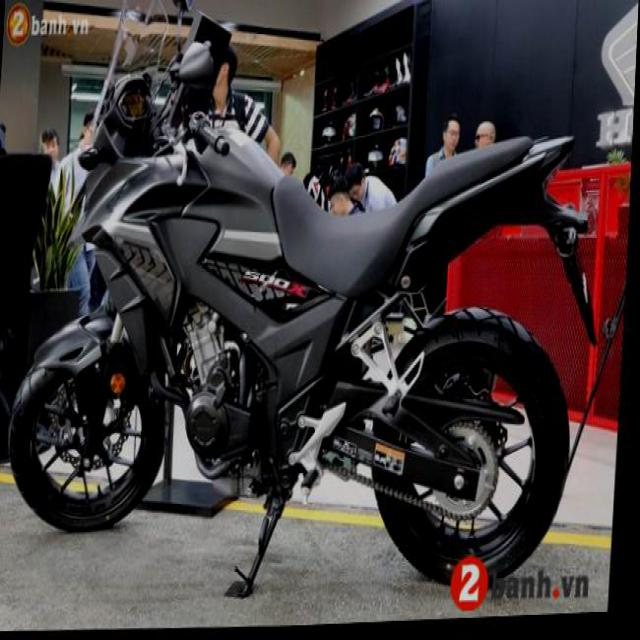CB500X: (0, 0, 623, 620)
